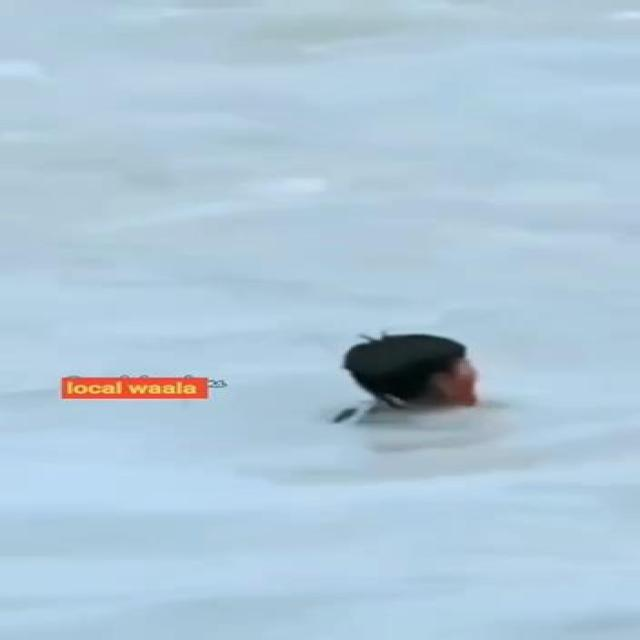Out of Water: (330, 319, 506, 415)
